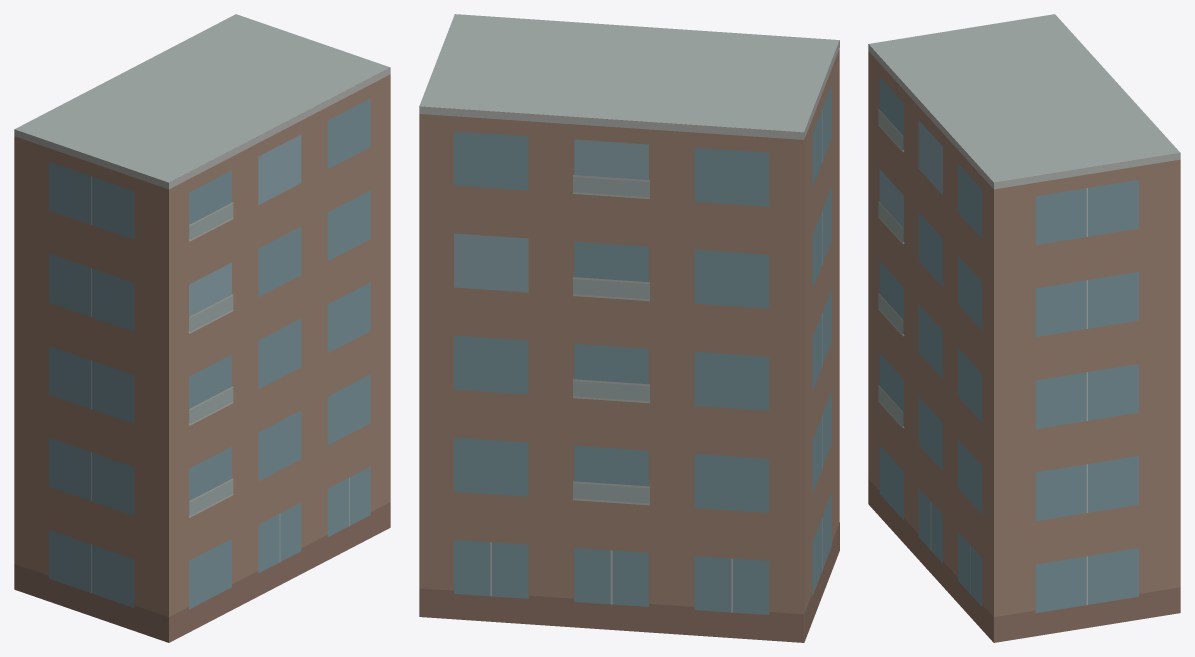
The model's file is survey-upis-32904797.glb.
The picture shows the model from 3 angles, left to right: view 1: azimuth 30°, elevation 25°; view 2: azimuth 150°, elevation 25°; view 3: azimuth 270°, elevation 25°; orthographic projection. The views are drawn at different scales.
Parts seen in each view (by area): view 1: survey-upis-32904797.tmp; view 2: survey-upis-32904797.tmp; view 3: survey-upis-32904797.tmp.
Boxes of the visible parts, x1,y1,x2,y2 form: survey-upis-32904797.tmp: (14, 14, 390, 642); survey-upis-32904797.tmp: (419, 14, 839, 642); survey-upis-32904797.tmp: (868, 14, 1180, 642).
Bounding box in the file's own units: 12.94 × 16.45 × 10.12.
